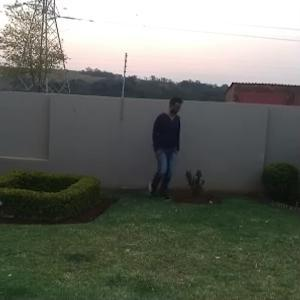follow: (148, 94, 180, 201)
